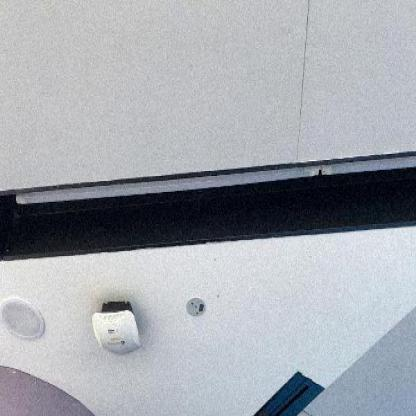light_off: (9, 89, 414, 252)
